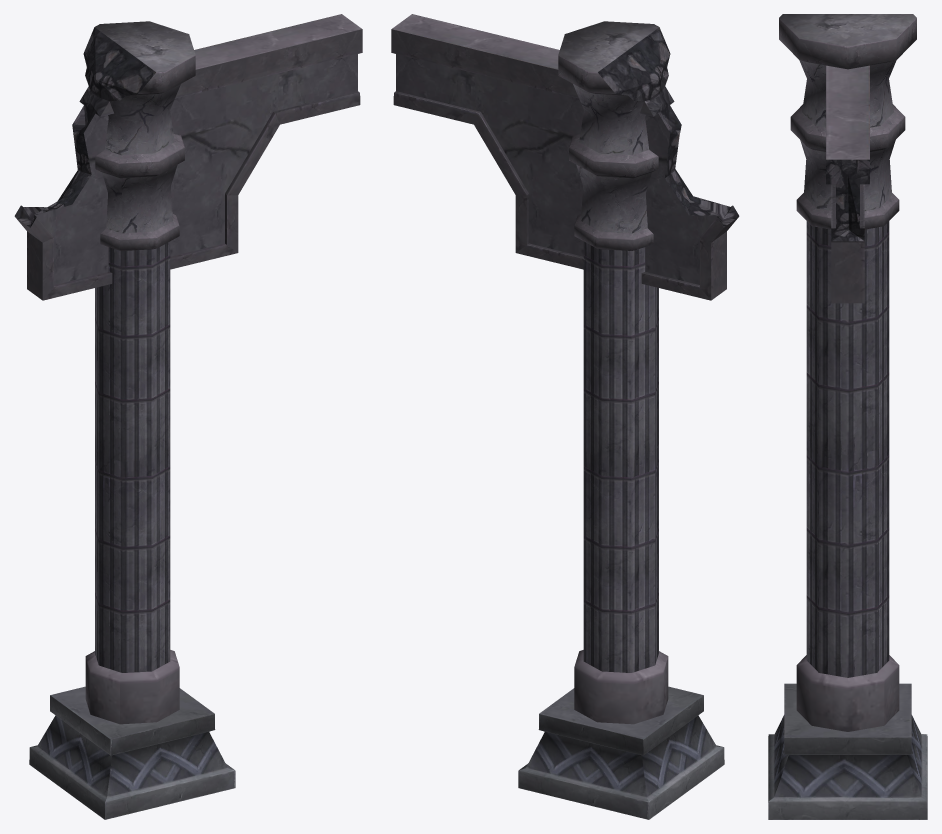
File: BOSS_Pillars_02.FBX
The picture shows the model from 3 angles, left to right: view 1: azimuth 30°, elevation 25°; view 2: azimuth 150°, elevation 25°; view 3: azimuth 270°, elevation 25°; orthographic projection. The views are drawn at different scales.
Visible parts, largest first — view 1: BOSS_Pillars_02; view 2: BOSS_Pillars_02; view 3: BOSS_Pillars_02.
Boxes of the visible parts, x1,y1,x2,y2 form: BOSS_Pillars_02: [14, 14, 362, 819]; BOSS_Pillars_02: [391, 14, 739, 819]; BOSS_Pillars_02: [768, 14, 927, 819].
Bounding box in the file's own units: 3.4 × 7.18 × 1.35.
